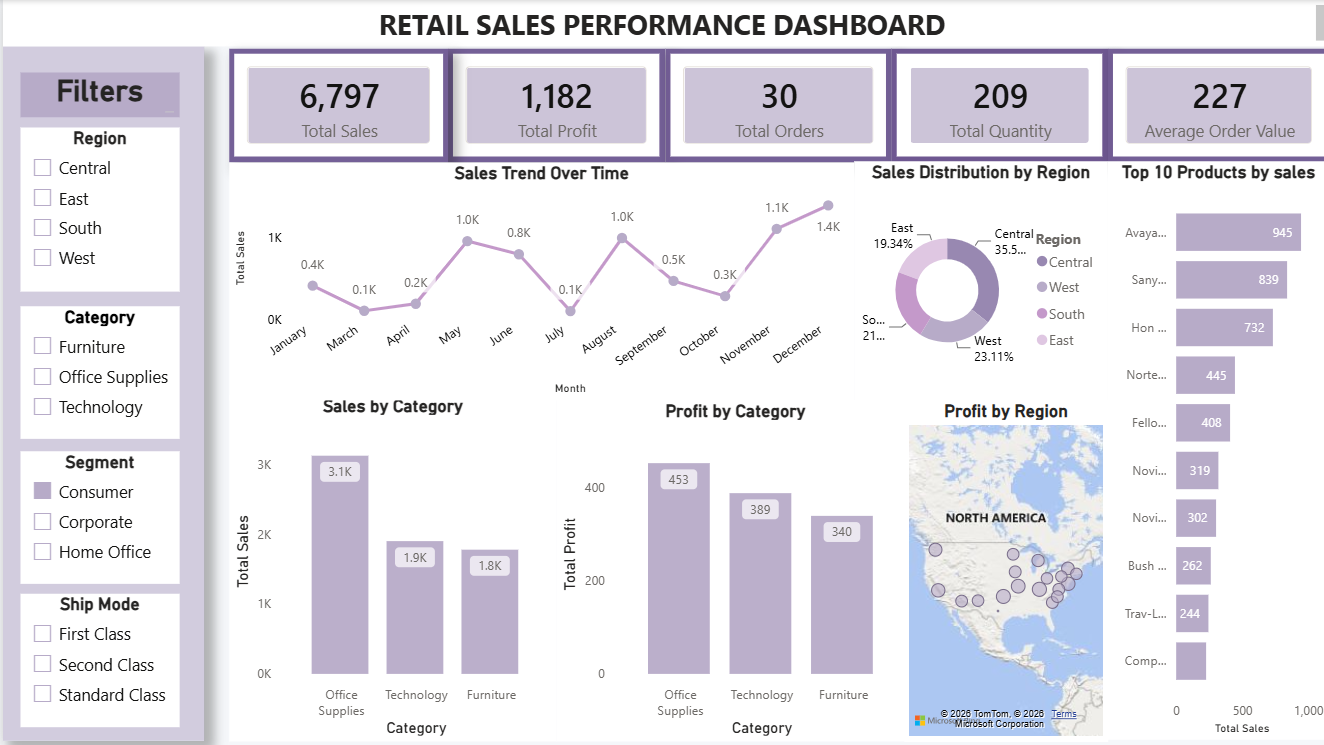

The dashboard page shown, as its layout file describes it:
{"tool":"powerbi","page":{"name":"Page 1","canvas":[1280,720],"ordinal":0},"visuals":[{"type":"shape","box":[0,44.6,194.2,670.8],"z":0},{"type":"cardVisual","fields":{"Data":["retail_sales_db superstore_cleaned (2).Total Profit"]},"box":[429.6,46.5,209.9,109.9],"z":1000},{"type":"cardVisual","fields":{"Data":["retail_sales_db superstore_cleaned (2).Total Orders"]},"box":[639.4,46.5,218.3,109.9],"z":2000},{"type":"cardVisual","fields":{"Data":["retail_sales_db superstore_cleaned (2).Total Quantity"]},"box":[857.7,46.5,208.5,109.9],"z":3000},{"type":"cardVisual","fields":{"Data":["retail_sales_db superstore_cleaned (2).Average Order Value"]},"box":[1066.2,46.5,214.1,109.9],"z":4000},{"type":"lineClusteredColumnComboChart","title":"Sales by Category","fields":{"Category":["retail_sales_db superstore_cleaned (2).Category"],"Y":["retail_sales_db superstore_cleaned (2).Total Sales"]},"box":[218.4,381.2,316.1,334.2],"z":5000},{"type":"lineClusteredColumnComboChart","title":"Profit by Category","fields":{"Category":["retail_sales_db superstore_cleaned (2).Category"],"Y":["retail_sales_db superstore_cleaned (2).Total Profit"]},"box":[534.5,386.1,345,329.4],"z":6000},{"type":"slicer","title":"Region","fields":{"Values":["retail_sales_db superstore_cleaned (2).Region"]},"box":[16.9,123.1,153.2,158],"z":7000},{"type":"slicer","title":"Category","fields":{"Values":["retail_sales_db superstore_cleaned (2).Category"]},"box":[16.9,295.6,153.2,127.9],"z":8000},{"type":"slicer","title":"Segment","fields":{"Values":["retail_sales_db superstore_cleaned (2).Segment"]},"box":[16.9,435.5,153.2,127.9],"z":9000},{"type":"slicer","title":"Ship Mode","fields":{"Values":["retail_sales_db superstore_cleaned (2).Ship Mode"]},"box":[16.9,573.1,153.2,129.1],"z":10000},{"type":"textbox","box":[0,0,1280,44.6],"z":11000},{"type":"textbox","title":"Filters","box":[16.9,70,153.2,43.4],"z":12000},{"type":"cardVisual","title":"Total  Sales","fields":{"Data":["retail_sales_db superstore_cleaned (2).Total Sales"]},"box":[218.4,47.1,211.1,109.8],"z":13000},{"type":"lineClusteredColumnComboChart","title":"Sales Trend Over Time","fields":{"Category":["retail_sales_db superstore_cleaned (2).Order Date.Variation.Date Hierarchy.Month"],"Series":["retail_sales_db superstore_cleaned (2).Product ID"],"Y2":["retail_sales_db superstore_cleaned (2).Total Sales"]},"box":[218.4,156.8,603.2,229.2],"z":14000},{"type":"clusteredBarChart","title":"Top 10 Products by sales","fields":{"Category":["retail_sales_db superstore_cleaned (2).Product Name"],"Y":["retail_sales_db superstore_cleaned (2).Total Sales"]},"box":[1066.5,155.6,213.5,558.6],"z":15000},{"type":"map","title":"Profit by Region","fields":{"Category":["retail_sales_db superstore_cleaned (2).State"],"Size":["retail_sales_db superstore_cleaned (2).Total Profit"]},"box":[869.8,386.1,196.6,329.4],"z":16000},{"type":"donutChart","title":"Sales Distribution by Region","fields":{"Category":["retail_sales_db superstore_cleaned (2).Region"],"Y":["Sum(retail_sales_db superstore_cleaned (2).Sales)"]},"box":[821.6,155.6,244.9,230.4],"z":17000}]}

Visuals, with their boxes in screenshot pixels (x1, y1, x2, y2), scaled from the page's 1280x720 canvas onto the 1324x745 screenshot:
shape: x1=0 y1=46 x2=201 y2=740
cardVisual - retail_sales_db superstore_cleaned (2).Total Profit: x1=444 y1=48 x2=661 y2=162
cardVisual - retail_sales_db superstore_cleaned (2).Total Orders: x1=661 y1=48 x2=887 y2=162
cardVisual - retail_sales_db superstore_cleaned (2).Total Quantity: x1=887 y1=48 x2=1103 y2=162
cardVisual - retail_sales_db superstore_cleaned (2).Average Order Value: x1=1103 y1=48 x2=1323 y2=162
"Sales by Category" lineClusteredColumnComboChart: x1=226 y1=394 x2=553 y2=740
"Profit by Category" lineClusteredColumnComboChart: x1=553 y1=400 x2=910 y2=740
"Region" slicer: x1=17 y1=127 x2=176 y2=291
"Category" slicer: x1=17 y1=306 x2=176 y2=438
"Segment" slicer: x1=17 y1=451 x2=176 y2=583
"Ship Mode" slicer: x1=17 y1=593 x2=176 y2=727
textbox: x1=0 y1=0 x2=1323 y2=46
"Filters" textbox: x1=17 y1=72 x2=176 y2=117
"Total  Sales" cardVisual: x1=226 y1=49 x2=444 y2=162
"Sales Trend Over Time" lineClusteredColumnComboChart: x1=226 y1=162 x2=850 y2=399
"Top 10 Products by sales" clusteredBarChart: x1=1103 y1=161 x2=1323 y2=739
"Profit by Region" map: x1=900 y1=400 x2=1103 y2=740
"Sales Distribution by Region" donutChart: x1=850 y1=161 x2=1103 y2=399
